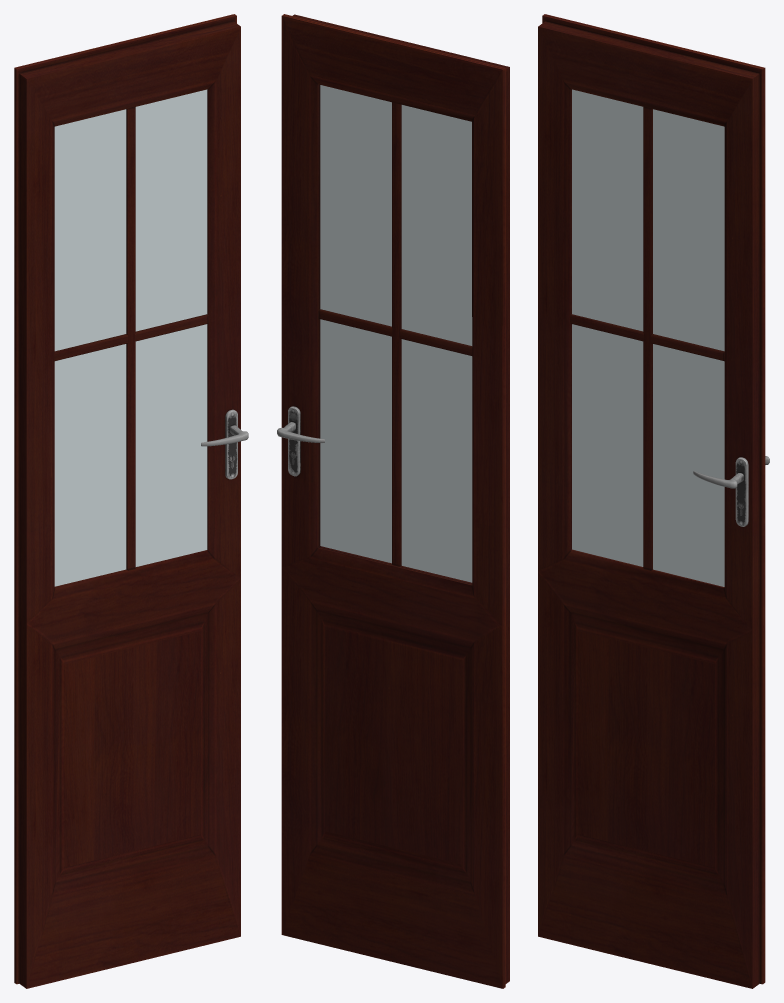
Rendered from door002_anim.dae.
3 renders of one model, left to right at view 1: azimuth 30°, elevation 25°; view 2: azimuth 150°, elevation 25°; view 3: azimuth 330°, elevation 25°, orthographic.
Visible parts, largest first — view 1: door002_part01, door002_part02; view 2: door002_part01, door002_part02; view 3: door002_part01, door002_part02.
Boxes of the visible parts, bbox=[...] form: door002_part01: bbox=[14, 14, 248, 988]; door002_part02: bbox=[54, 89, 207, 586]; door002_part01: bbox=[277, 14, 509, 988]; door002_part02: bbox=[320, 85, 472, 582]; door002_part01: bbox=[538, 14, 769, 988]; door002_part02: bbox=[572, 89, 724, 586].
Size of the model in its own units: 62.96 by 250 by 18.51.
